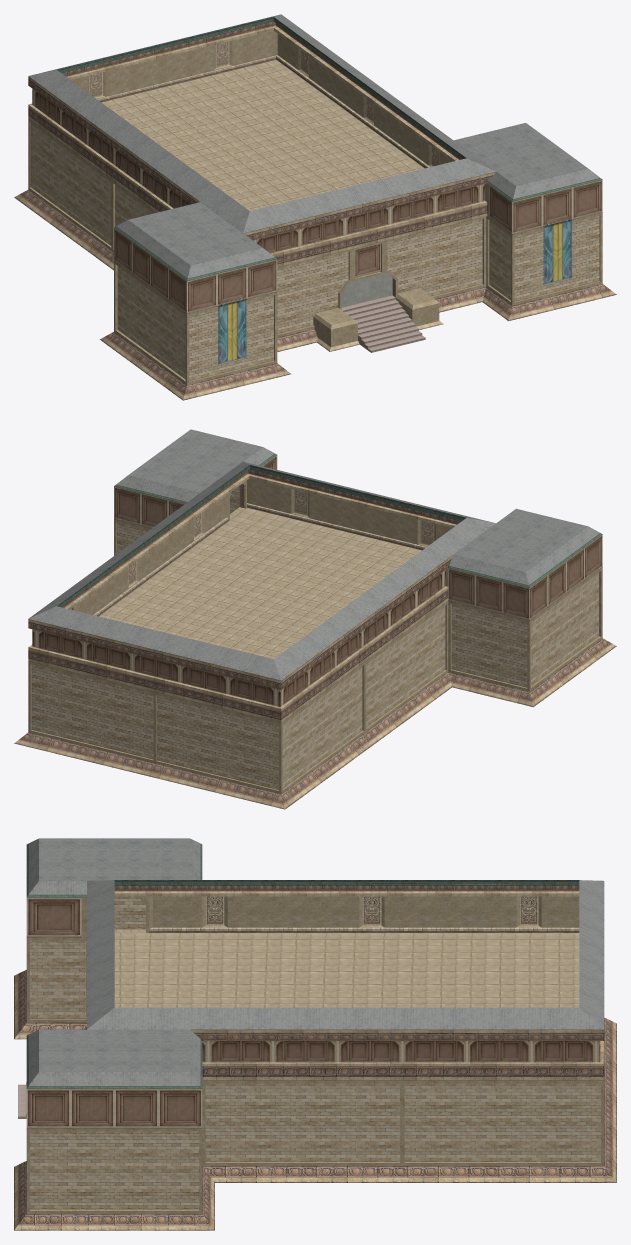
Rendered from ply_nboo_assoc_hall_civ_s01_l0.fbx.
The picture shows the model from 3 angles, top to bottom: view 1: azimuth 30°, elevation 25°; view 2: azimuth 150°, elevation 25°; view 3: azimuth 270°, elevation 25°; orthographic projection. The views are drawn at different scales.
Parts seen in each view (by area): view 1: mesh_node; view 2: mesh_node; view 3: mesh_node.
Boxes of the visible parts, x1,y1,x2,y2 form: mesh_node: (14,14,616,400); mesh_node: (14,429,616,809); mesh_node: (14,838,616,1230).
Bounding box in the file's own units: 48 × 14 × 48.
